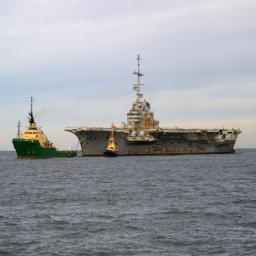Portanaves: (65, 52, 243, 159)
